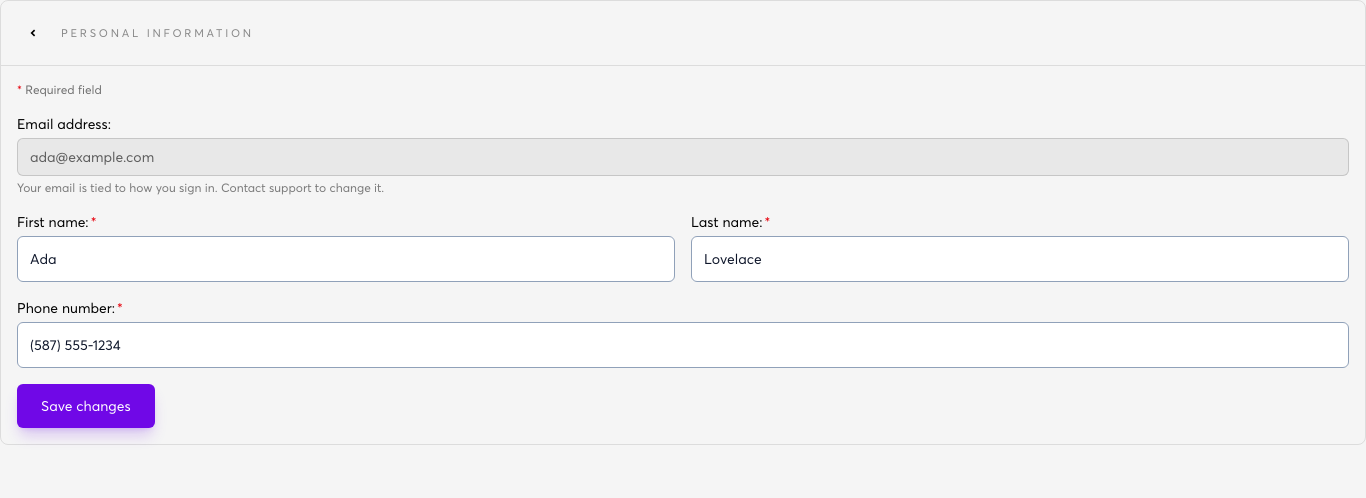
Scenario: reports a failed save inline
The width and height of the screenshot is (1366, 498).
Check: the field labelled "First name:" is shown, box [17,236,675,282]
Click the button "Save changes".
click(86, 406)  # box [17,384,155,428]
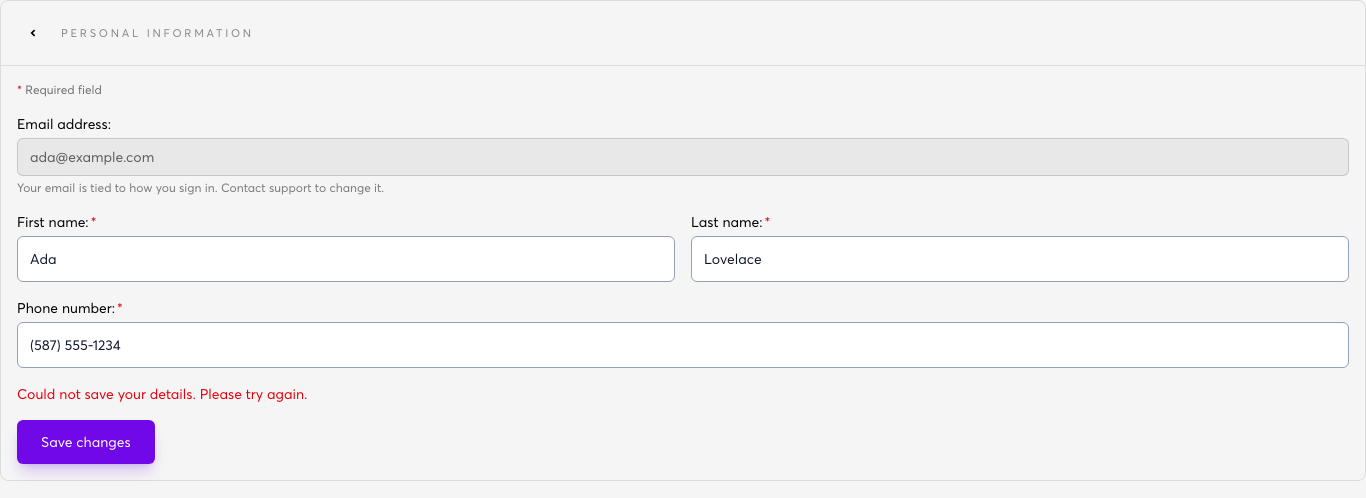
Check: the message shows "Could not save your details", box [17,385,308,402]
